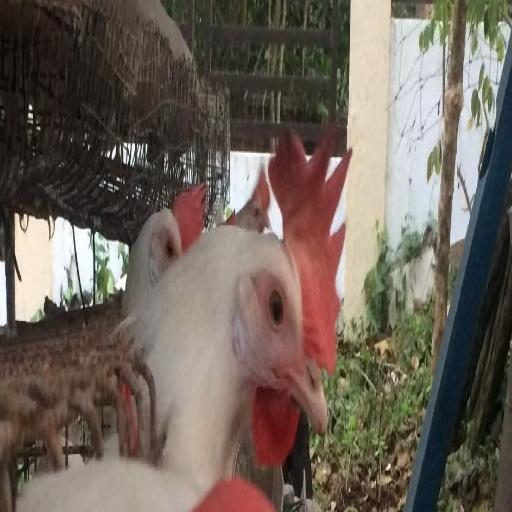healthy: (251, 142, 338, 423)
